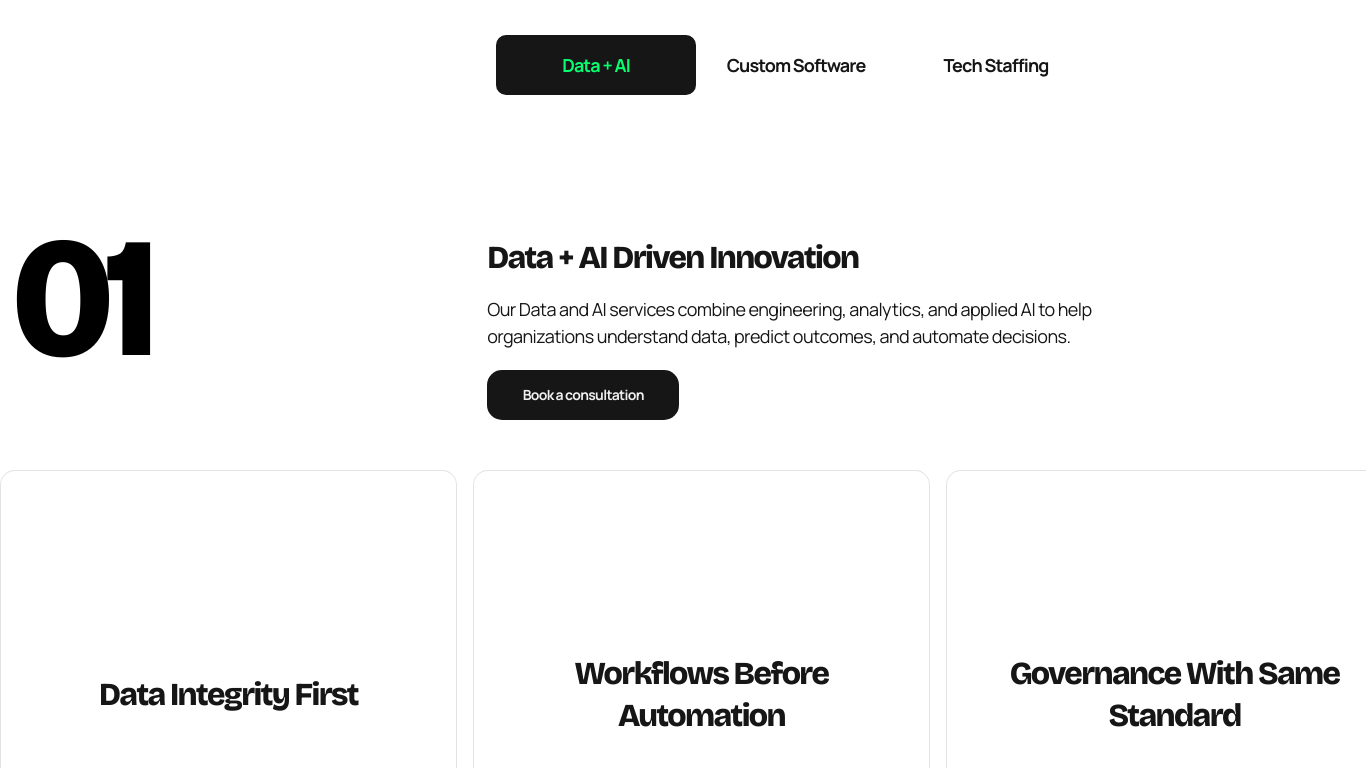
Test: Solutions › swaps the whole panel when another tab is clicked
Expected: the element showing "Data + AI Custom Software Tech Staffing" is shown, [490,30,1102,100]
Click the tab "Tech Staffing": (996, 65) [896,35,1096,95]
(page scrolled)
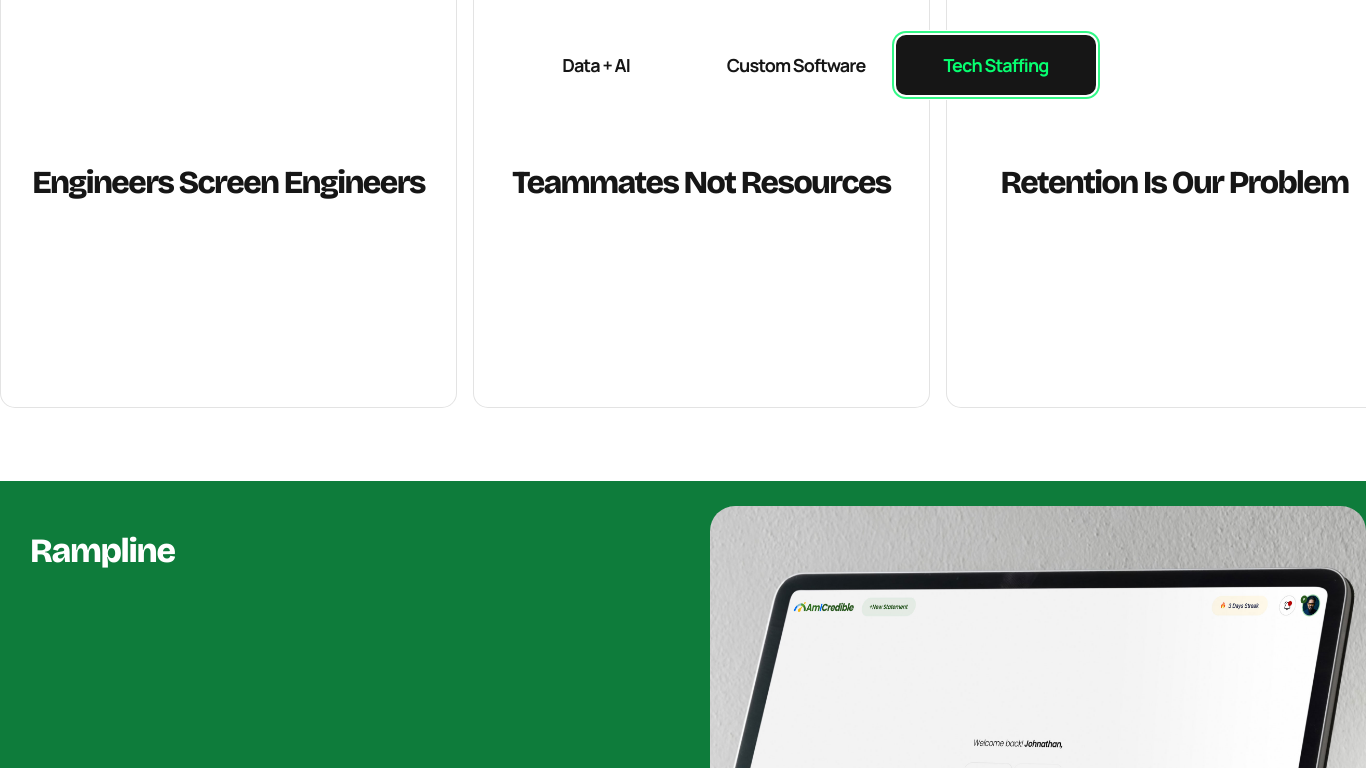
Result: the heading "Data + AI Driven Innovation" is gone
